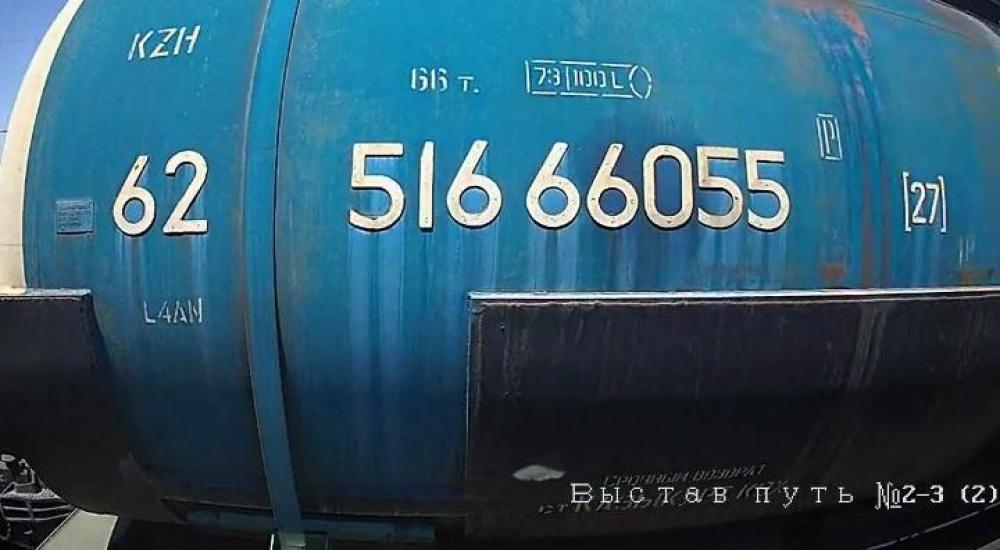Wagon-number: (342, 130, 795, 240)
